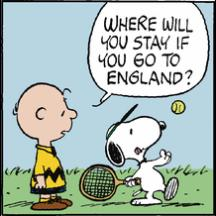charlie: (12, 82, 78, 212)
snoopy: (79, 102, 179, 208)
